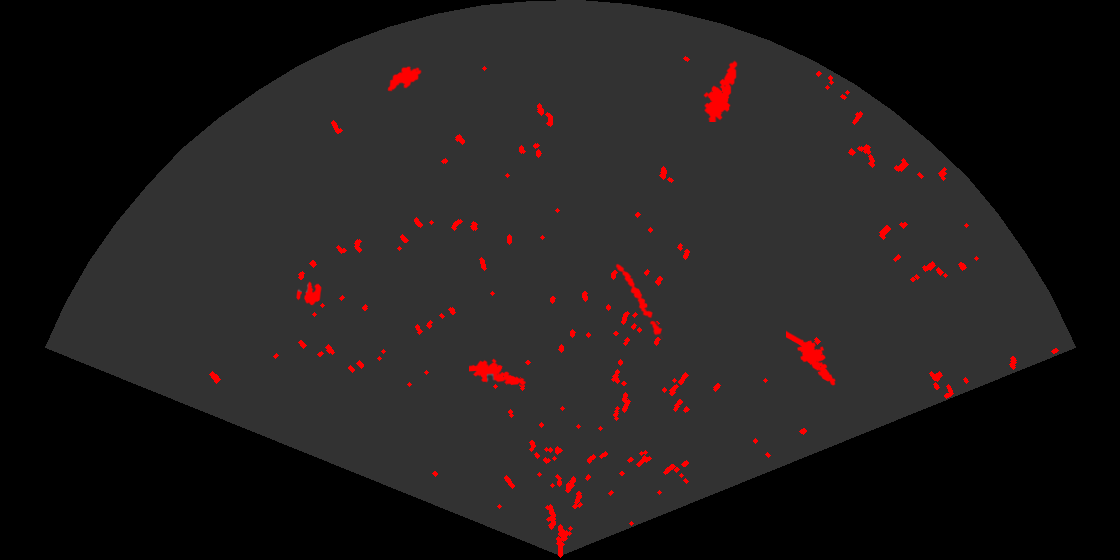AUV: (386, 65, 423, 93)
ball: (295, 280, 323, 307)
chain: (614, 262, 665, 339)
frogman: (786, 330, 837, 387), (702, 60, 739, 122), (469, 357, 526, 387)
